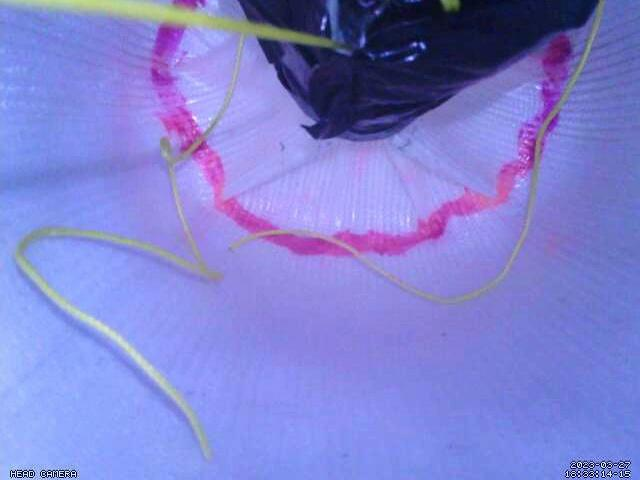head: (149, 22, 576, 256)
